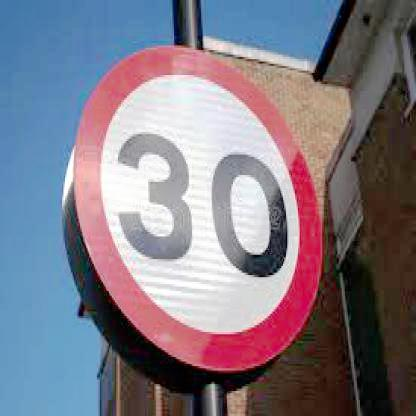Speed Limit -30-: (63, 40, 322, 384)
